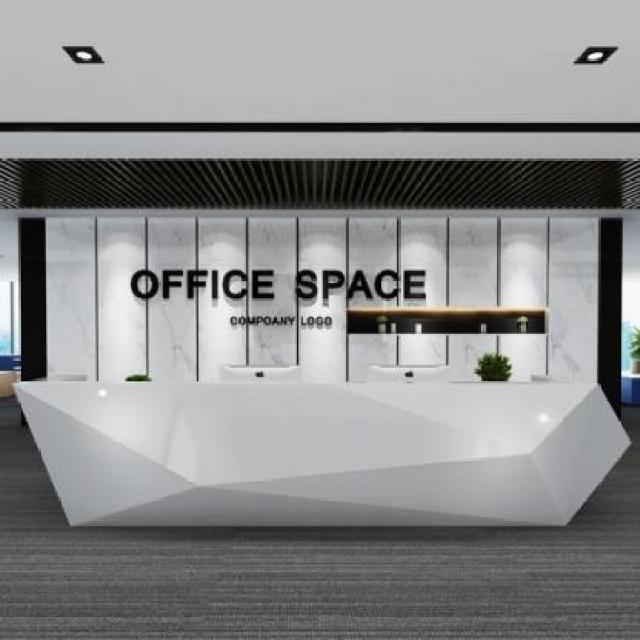frontdesk: (1, 358, 640, 537)
